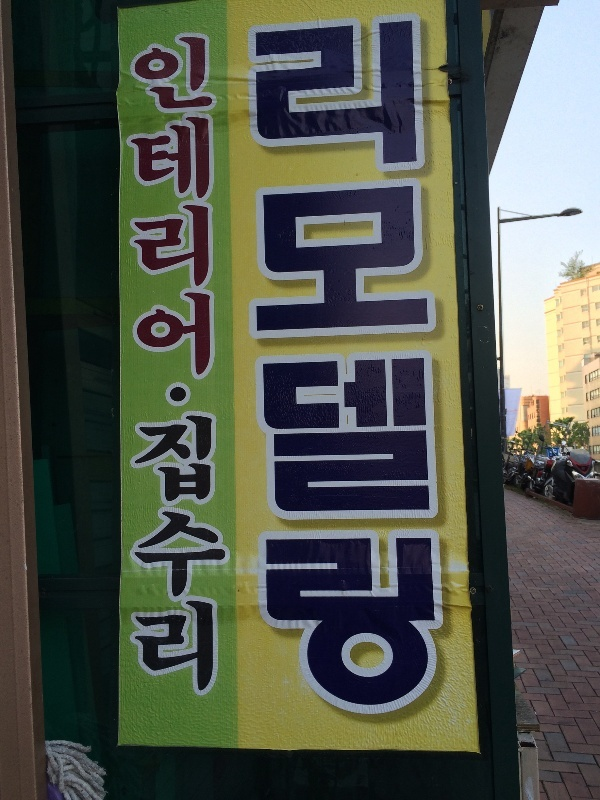text: (257, 11, 272, 730), (273, 11, 288, 730), (289, 11, 304, 730), (305, 11, 320, 730), (321, 11, 336, 730), (337, 11, 352, 730), (353, 11, 368, 730), (369, 11, 384, 730), (385, 11, 400, 730), (401, 11, 416, 730), (417, 11, 432, 730), (433, 11, 448, 730), (129, 27, 144, 383), (145, 27, 160, 383), (161, 27, 176, 383), (177, 27, 192, 383), (193, 27, 208, 383), (449, 11, 456, 730), (145, 411, 160, 701), (161, 411, 176, 701), (177, 411, 192, 701), (193, 411, 208, 701), (209, 411, 224, 701), (131, 411, 144, 701), (251, 11, 256, 730), (209, 27, 217, 383), (225, 411, 228, 701), (127, 27, 128, 383)
